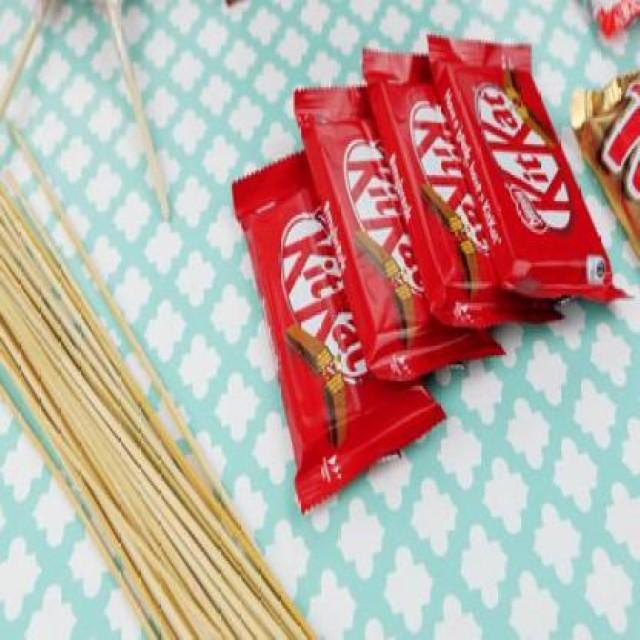kitkat_chocolate: (245, 157, 477, 518), (318, 108, 534, 432), (378, 62, 524, 375), (472, 56, 632, 306)
